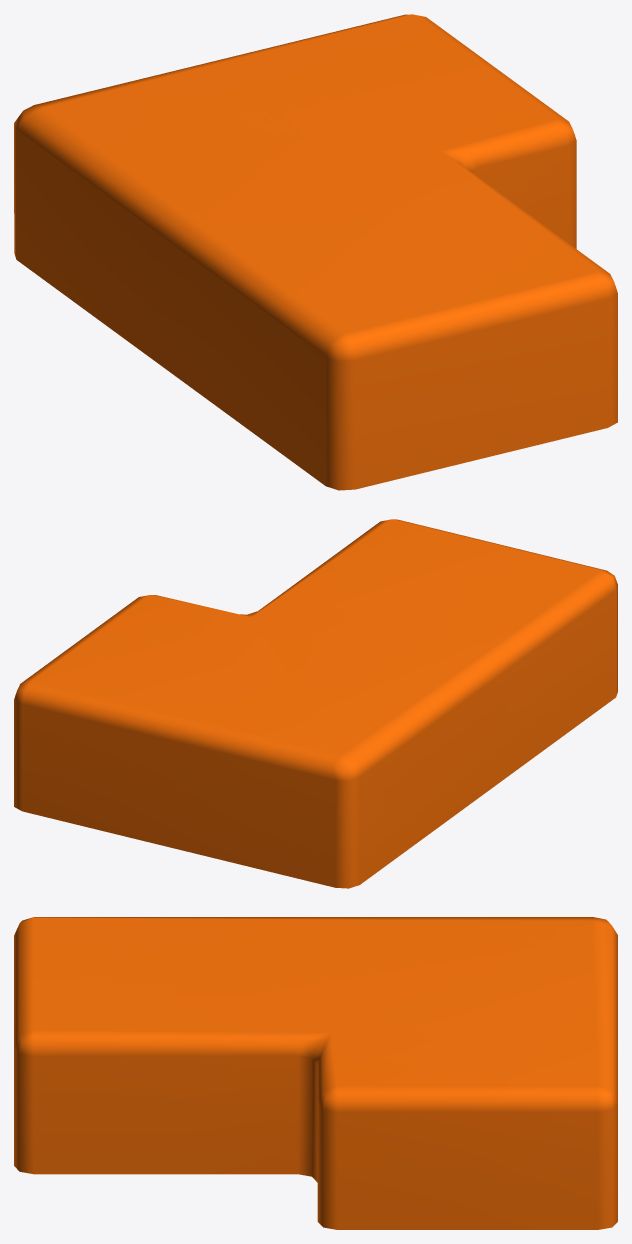
3 views of the same model, one above another, from view 1: azimuth 30°, elevation 25°; view 2: azimuth 150°, elevation 25°; view 3: azimuth 270°, elevation 25° (orthographic). The views are drawn at different scales.
Visible parts, largest first — view 1: base_03; view 2: base_03; view 3: base_03.
Boxes of the visible parts, bbox=[...] form: base_03: bbox=[14, 14, 617, 490]; base_03: bbox=[14, 519, 617, 888]; base_03: bbox=[14, 917, 617, 1229].
Size of the model in its own units: 1092 by 374 by 1508.
